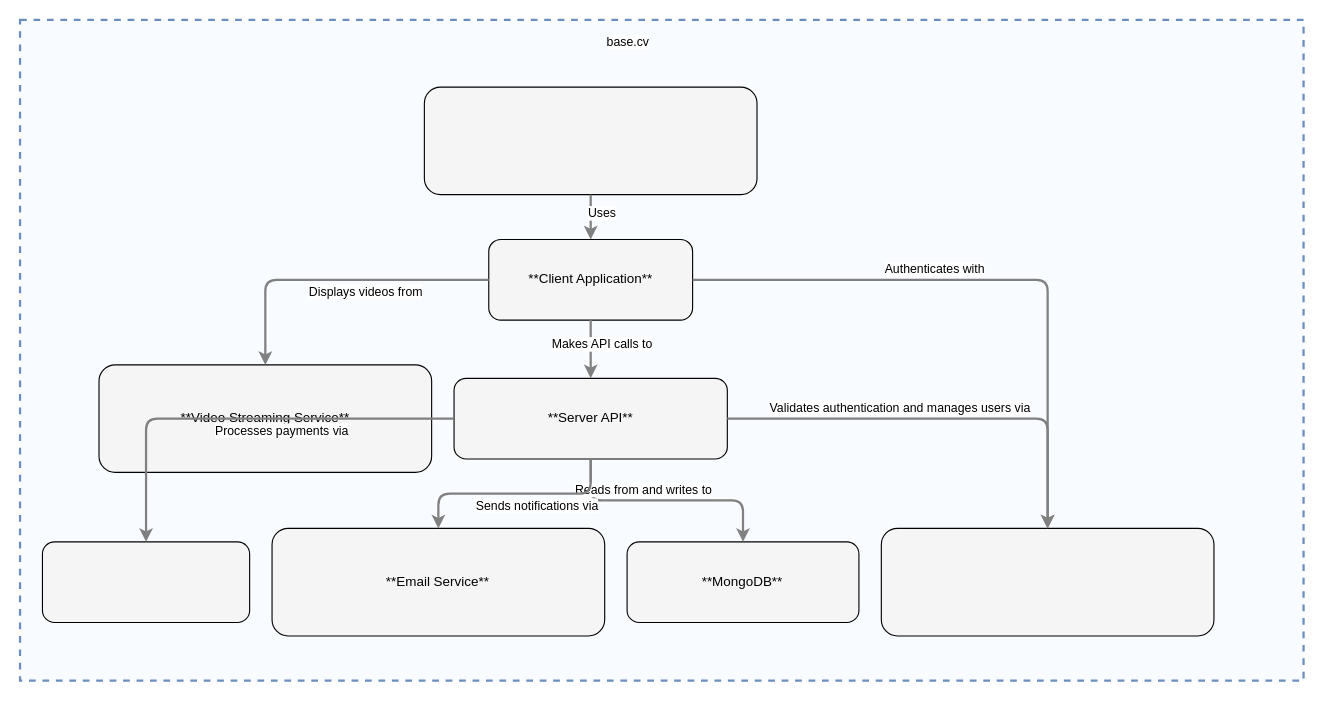
Image size: 1324x701. Some labels were removed from this diagram. The shapes that lost their labels are listed below. From the top down, each one's centre as x and y in pixels, then its label:
the point at 590,140: **End User**
the point at 145,581: **Razorpay**
the point at 1047,581: **Clerk**
